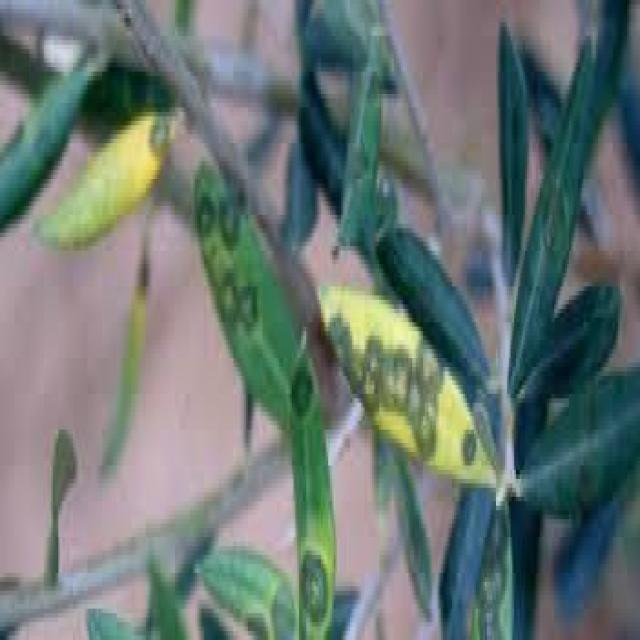OlivePeacockSpot: (321, 286, 498, 484), (196, 161, 284, 425), (36, 116, 174, 246), (292, 376, 336, 636), (195, 546, 295, 636), (472, 502, 510, 636)
